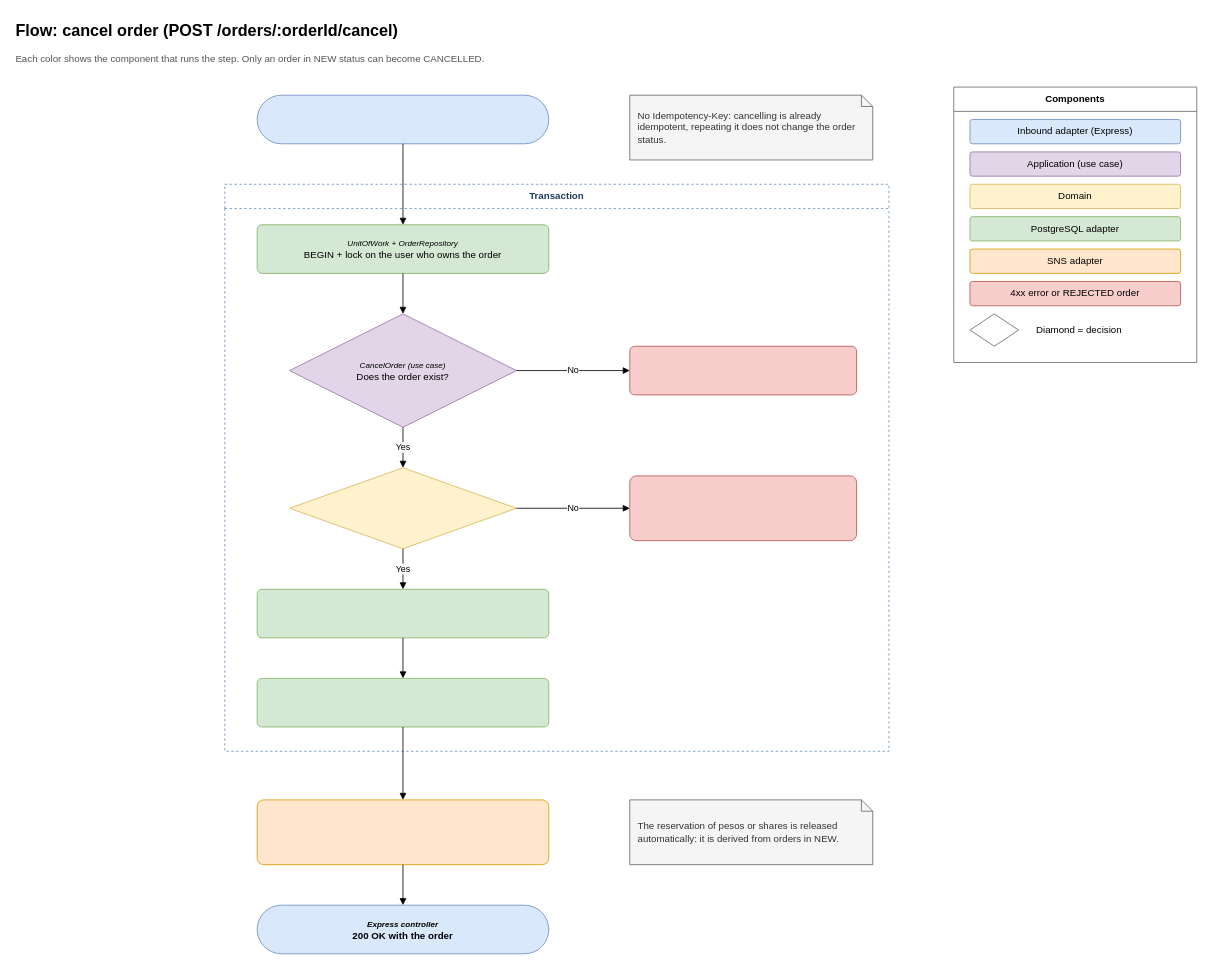
Image size: 1211x968. Some labels were removed from this diagram. The centre of each missing label's shape, as x and y in pixels:
Error middleware 404 Not Found: the point at 743,370
Error middleware 409 Conflict (only NEW orders can be cancelled): the point at 743,508
EventPublisher (SNS) Publish order.cancelled event to Amazon SNS (after COMMIT): the point at 402,832
Express controller Receive POST /orders/:orderId/cancel: the point at 402,119
Order (domain) Status = NEW?: the point at 402,508
OrderRepository UPDATE status = CANCELLED: the point at 402,613
UnitOfWork COMMIT: the point at 402,702
